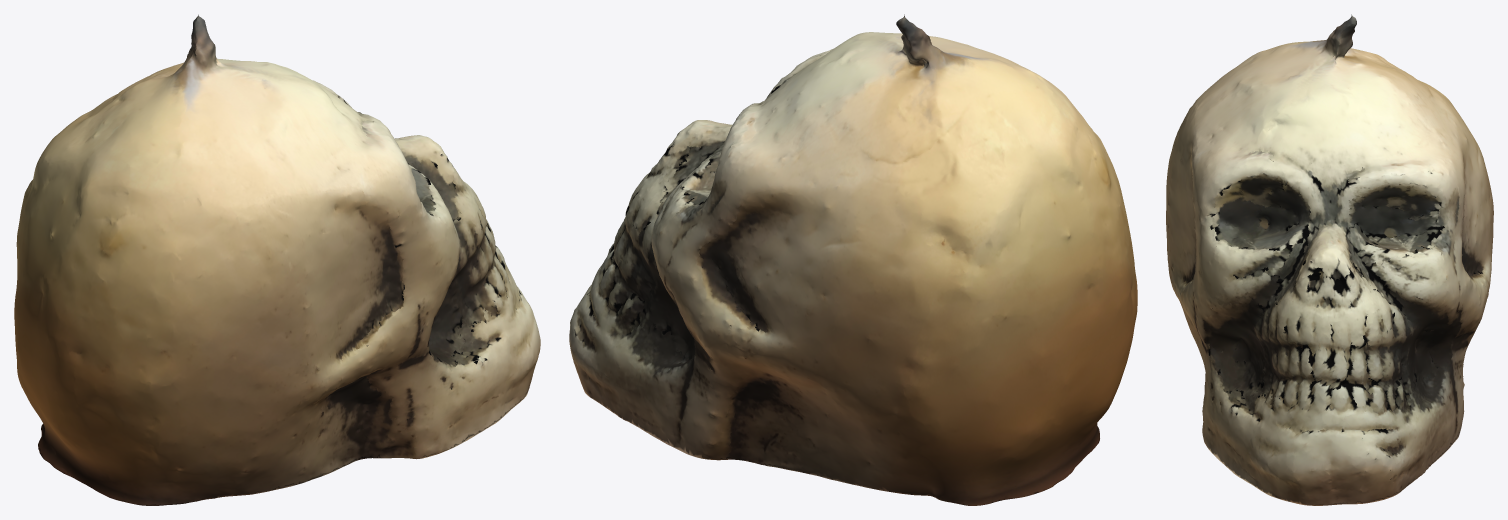
File: calavera.glb
The picture shows the model from 3 angles, left to right: view 1: azimuth 30°, elevation 25°; view 2: azimuth 150°, elevation 25°; view 3: azimuth 270°, elevation 25°; orthographic projection. The views are drawn at different scales.
Parts seen in each view (by area): view 1: mainMeshNode; view 2: mainMeshNode; view 3: mainMeshNode.
Part boxes in pixels (x1,y1,x2,y2): mainMeshNode: [14, 14, 540, 505]; mainMeshNode: [569, 14, 1137, 505]; mainMeshNode: [1166, 14, 1493, 505].
Size of the model in its own units: 4.02 by 3.24 by 2.66.
1 material, 1 textured.
